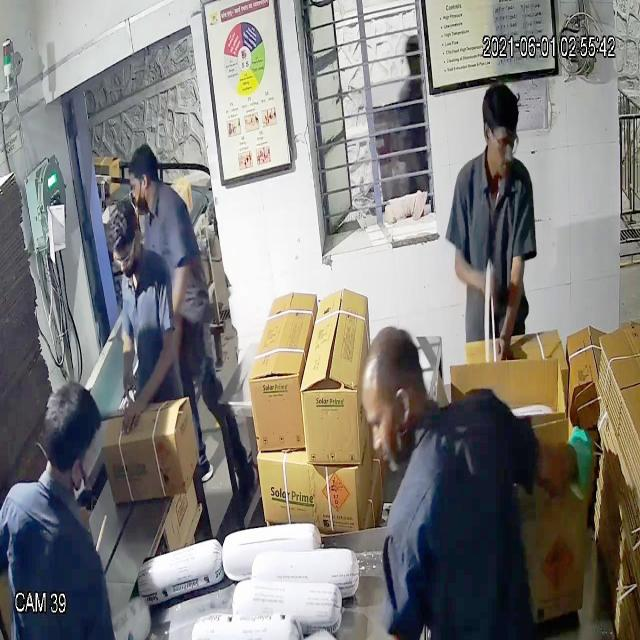glasses: (479, 118, 521, 162), (110, 237, 142, 272)
no-glass: (358, 389, 414, 439)
